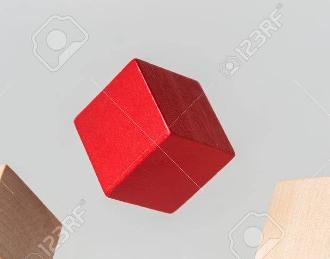red cube: (72, 56, 238, 214)
